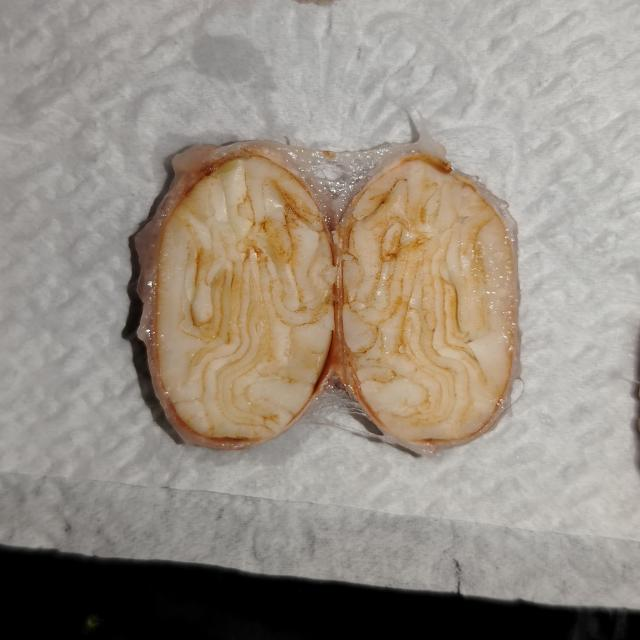Criollo: (336, 150, 516, 447), (160, 137, 326, 455)
